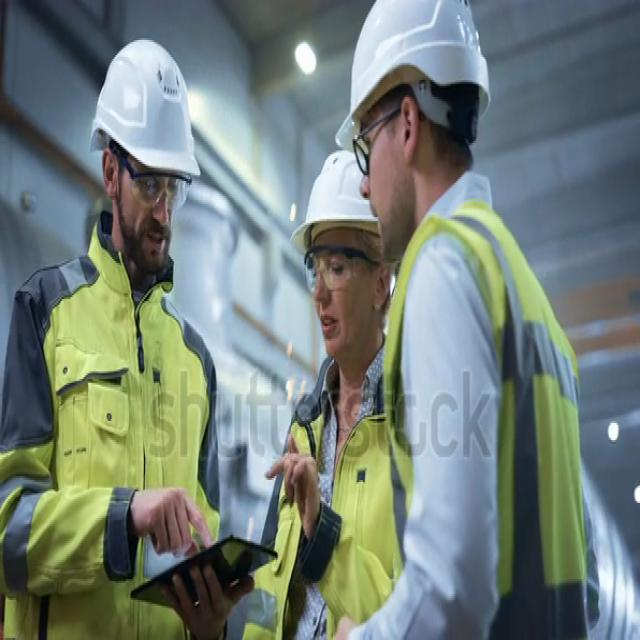goggles: (352, 94, 412, 176), (302, 241, 382, 296), (124, 152, 189, 207)
